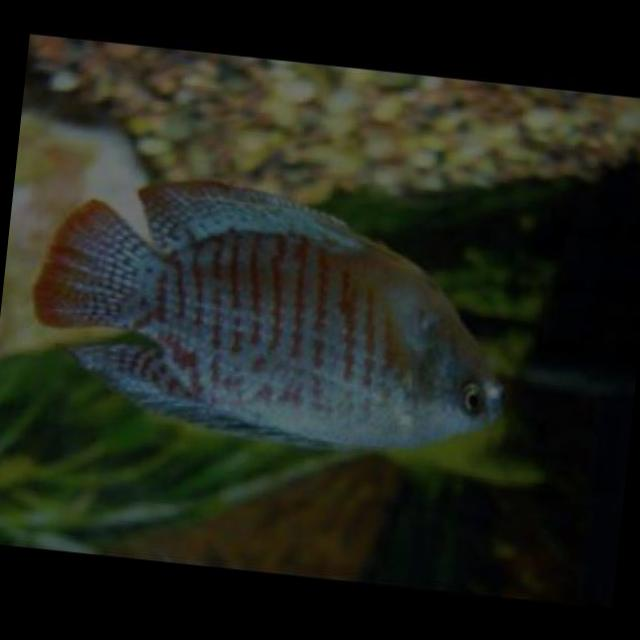Gourami: (19, 159, 526, 474)
